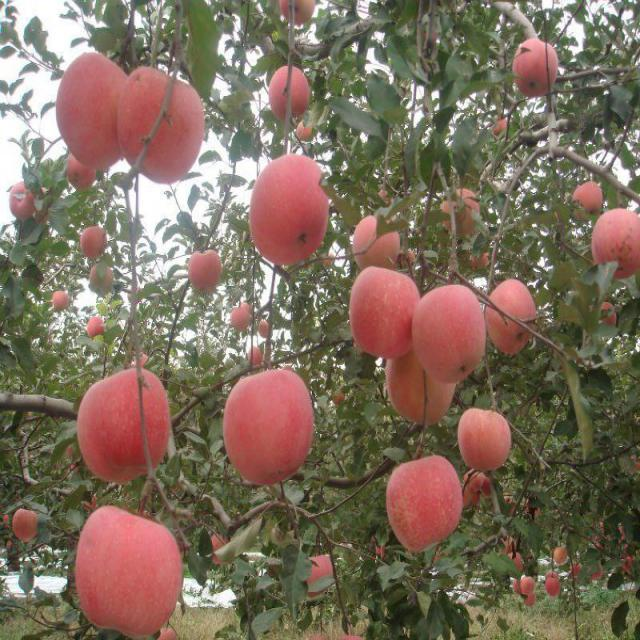Fresh Apple: (70, 496, 186, 640), (76, 365, 166, 482), (119, 65, 204, 187), (227, 368, 313, 485), (60, 48, 130, 160), (257, 153, 323, 267), (422, 283, 485, 385), (390, 458, 463, 545), (352, 267, 418, 360), (460, 403, 510, 470), (590, 216, 640, 272)
